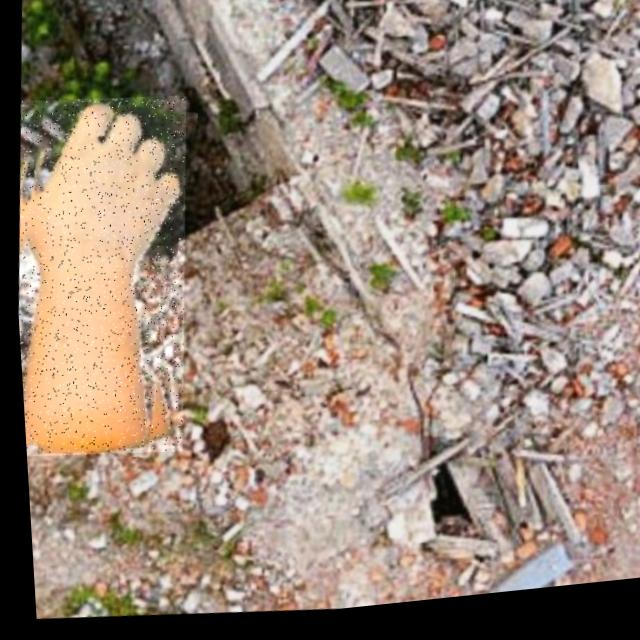Person in Rubble: (5, 87, 201, 467)
